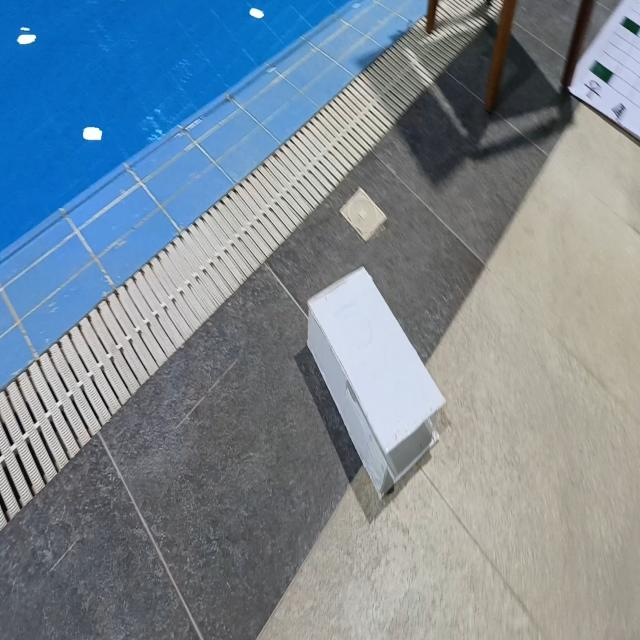Cube: (82, 125, 102, 141)
Cuboid: (305, 264, 447, 500)
